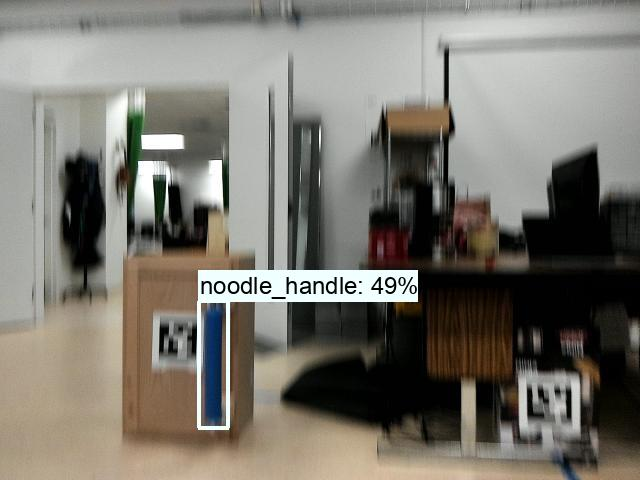noodle_handle: (202, 303, 229, 423)
